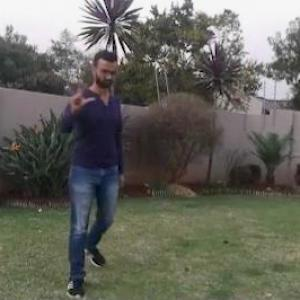land_hand: (63, 80, 95, 115)
